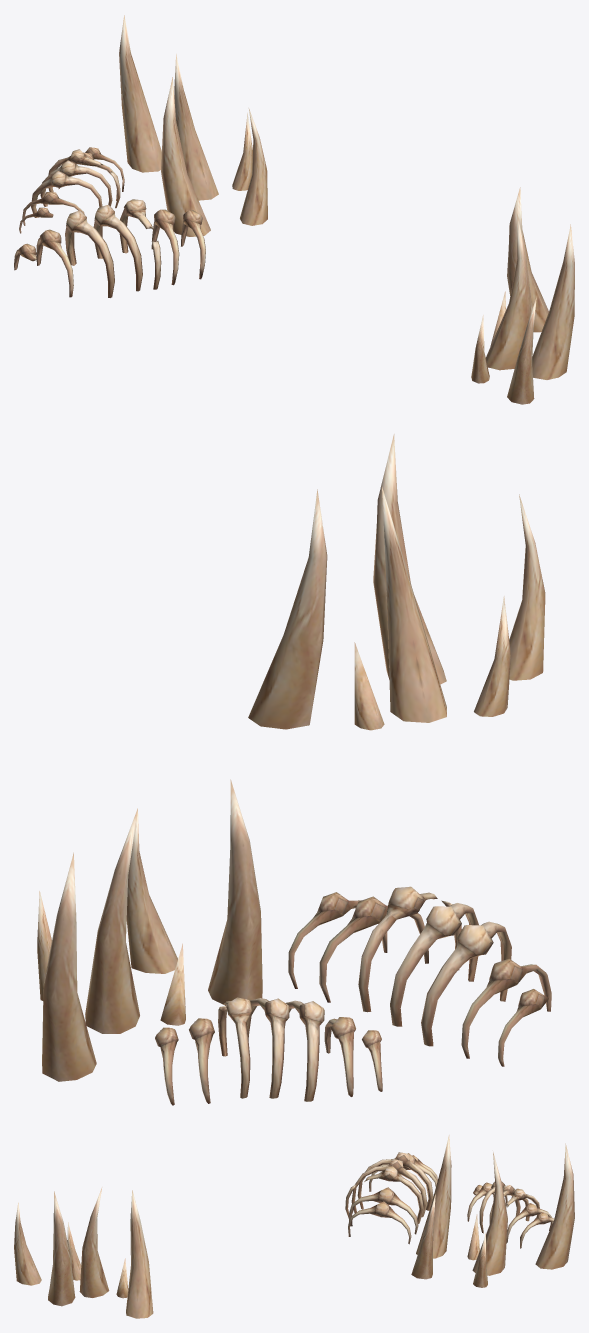
File: area_07_21.fbx
The picture shows the model from 3 angles, top to bottom: view 1: azimuth 30°, elevation 25°; view 2: azimuth 150°, elevation 25°; view 3: azimuth 270°, elevation 25°; orthographic projection. The views are drawn at different scales.
Parts seen in each view (by area): view 1: area_07_21; view 2: area_07_21; view 3: area_07_21.
Boxes of the visible parts, x1,y1,x2,y2 form: area_07_21: (14,15,574,404); area_07_21: (37,434,551,1105); area_07_21: (14,1135,574,1318).
Bounding box in the file's own units: 12.92 × 5.31 × 22.31.
